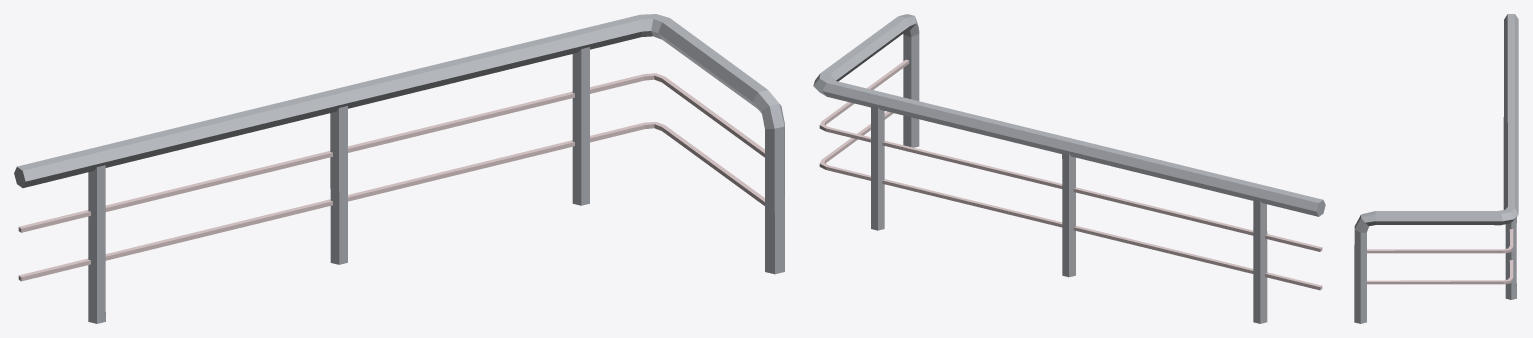
File: M_Fence03_1.fbx
The picture shows the model from 3 angles, left to right: view 1: azimuth 30°, elevation 25°; view 2: azimuth 150°, elevation 25°; view 3: azimuth 270°, elevation 25°; orthographic projection. The views are drawn at different scales.
Visible parts, largest first — view 1: M_Fence03_1; view 2: M_Fence03_1; view 3: M_Fence03_1.
Boxes of the visible parts, bbox=[...] form: M_Fence03_1: bbox=[14, 14, 784, 323]; M_Fence03_1: bbox=[813, 14, 1325, 323]; M_Fence03_1: bbox=[1354, 14, 1518, 323].
Size of what is drawn, in the model's own units: 381 by 131 by 95.5.
